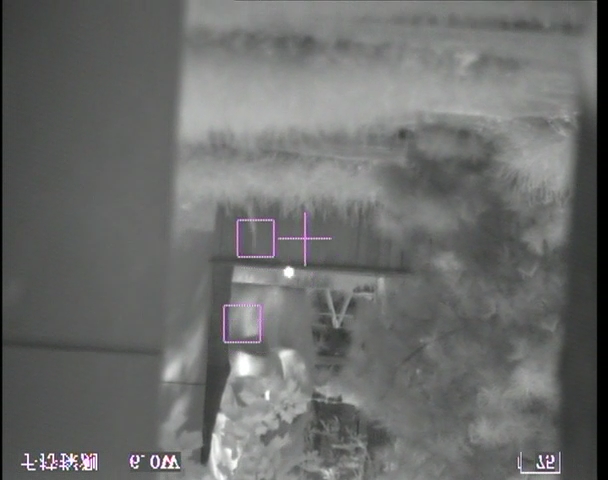my: (281, 264, 295, 279)
